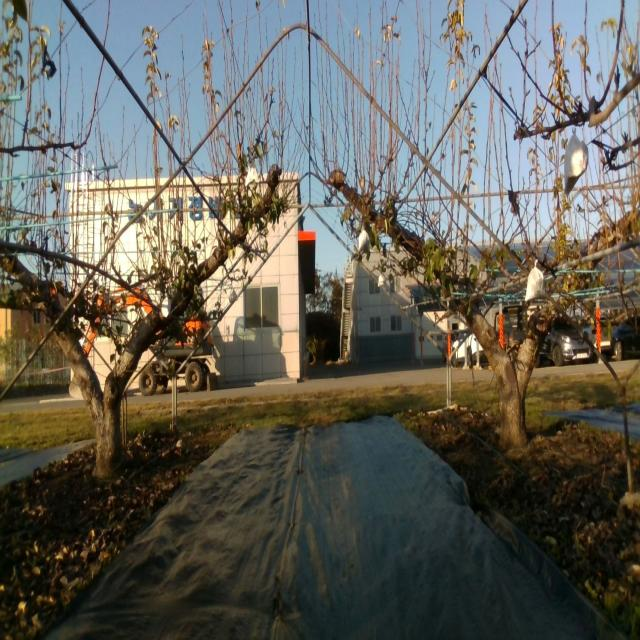pearbags: (562, 127, 591, 196), (524, 263, 545, 302), (245, 161, 260, 186), (161, 297, 171, 318)
